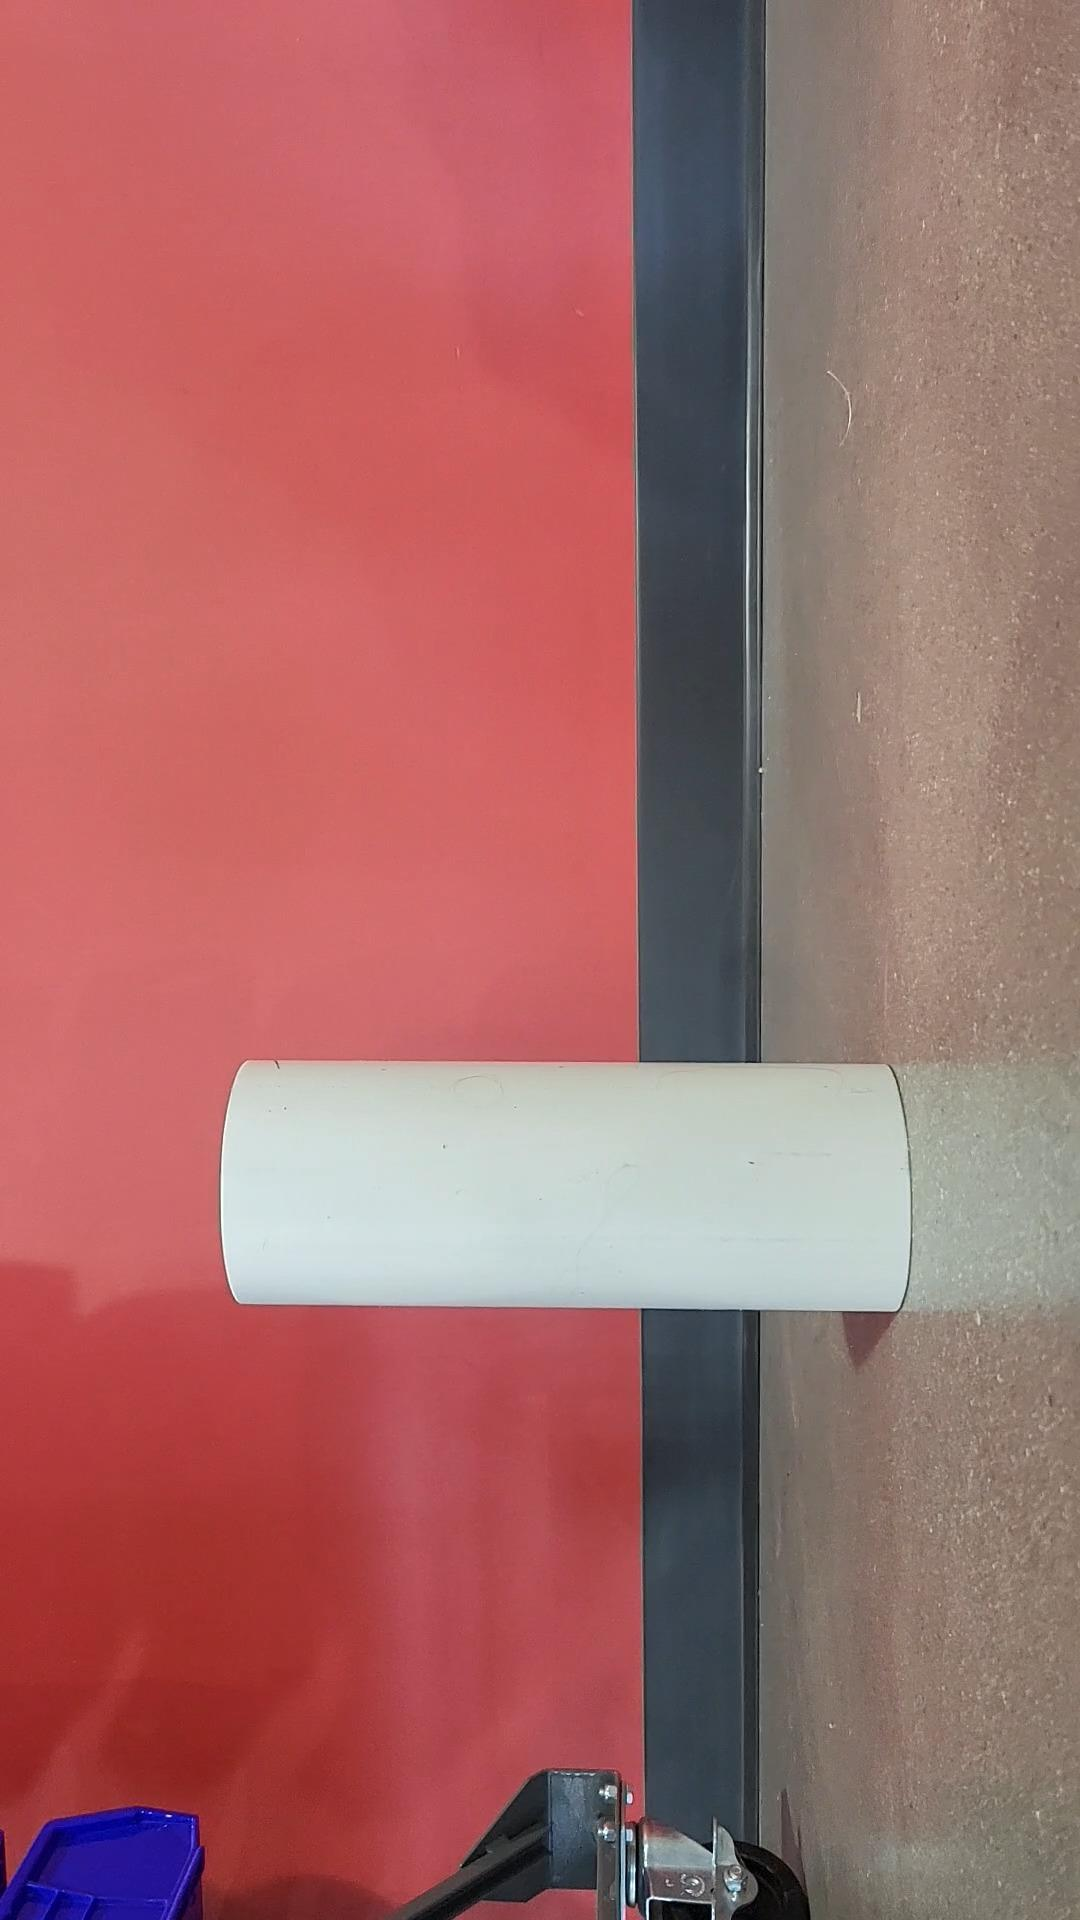coral: (212, 1055, 927, 1323)
